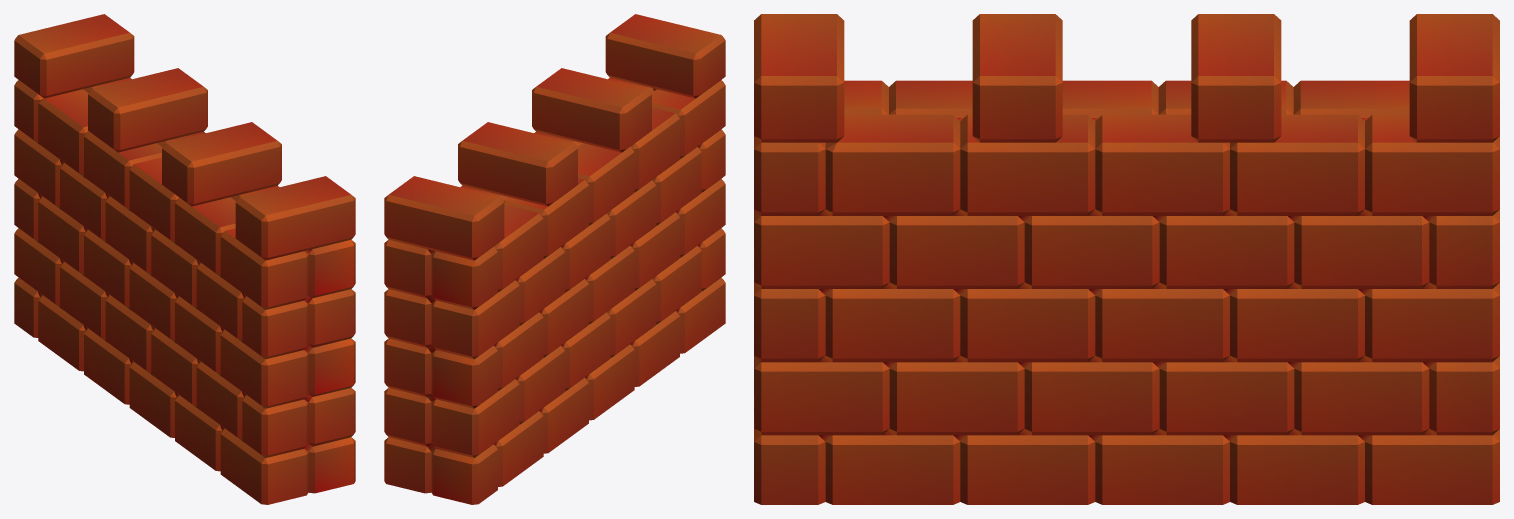
File: wall.glb
3 views of the same model, side by side, from view 1: azimuth 30°, elevation 25°; view 2: azimuth 150°, elevation 25°; view 3: azimuth 270°, elevation 25° (orthographic). The views are drawn at different scales.
Parts seen in each view (by area): view 1: Cube.002; view 2: Cube.002; view 3: Cube.002.
Part boxes in pixels (bbox=[...]): Cube.002: bbox=[14, 14, 355, 504]; Cube.002: bbox=[384, 14, 725, 504]; Cube.002: bbox=[754, 14, 1499, 504].
Size of the model in its own units: 0.6874 by 2 by 3.18.
Materials: 1 (1 with a texture image).
